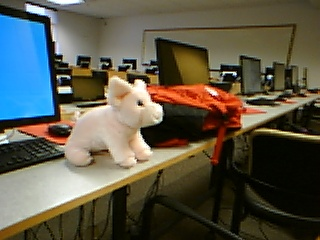piggy: (63, 75, 165, 170)
